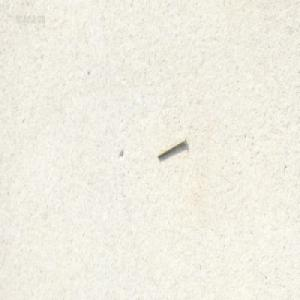Bolt: (156, 135, 186, 159)
